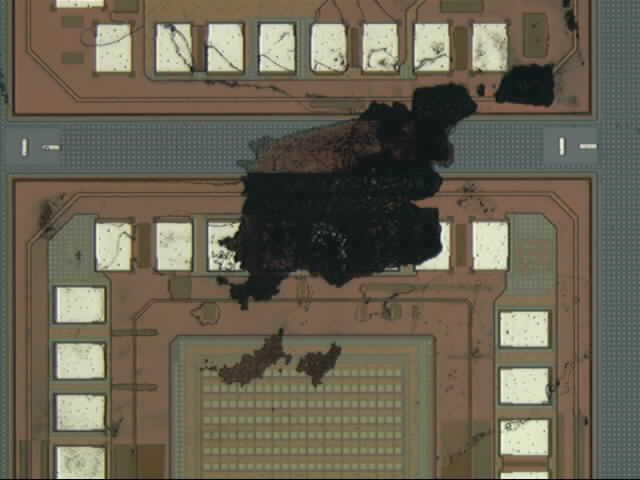PO CONTAMINATION: (30, 1, 598, 469)
